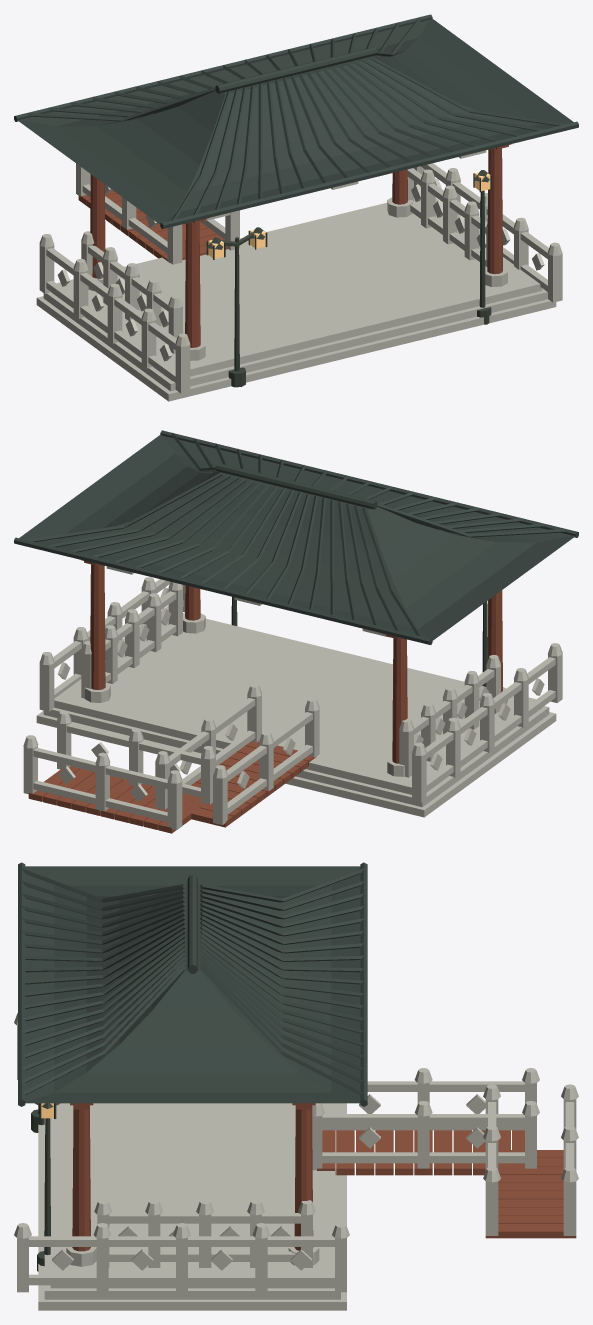
Rendered from yanggong.glb.
The picture shows the model from 3 angles, top to bottom: view 1: azimuth 30°, elevation 25°; view 2: azimuth 150°, elevation 25°; view 3: azimuth 270°, elevation 25°; orthographic projection. The views are drawn at different scales.
Visible parts, largest first — view 1: Limestone, Dark_Tile, Lacquered_Wood, Patinated_Iron, Emissive_WarmLamp; view 2: Limestone, Dark_Tile, Lacquered_Wood, Patinated_Iron; view 3: Dark_Tile, Limestone, Lacquered_Wood, Patinated_Iron.
Boxes of the visible parts, <box> form: Limestone: <box>36,150,562,401</box>; Dark_Tile: <box>14,14,578,229</box>; Lacquered_Wood: <box>78,144,511,347</box>; Patinated_Iron: <box>206,170,491,387</box>; Emissive_WarmLamp: <box>208,172,490,258</box>; Limestone: <box>23,566,562,830</box>; Dark_Tile: <box>14,430,578,644</box>; Lacquered_Wood: <box>28,560,502,833</box>; Patinated_Iron: <box>231,597,487,686</box>; Dark_Tile: <box>18,862,367,1106</box>; Limestone: <box>14,1013,578,1310</box>; Lacquered_Wood: <box>70,1103,576,1251</box>; Patinated_Iron: <box>31,1103,59,1271</box>.
Size of the model in its own units: 8.36 by 4.61 by 8.42.
